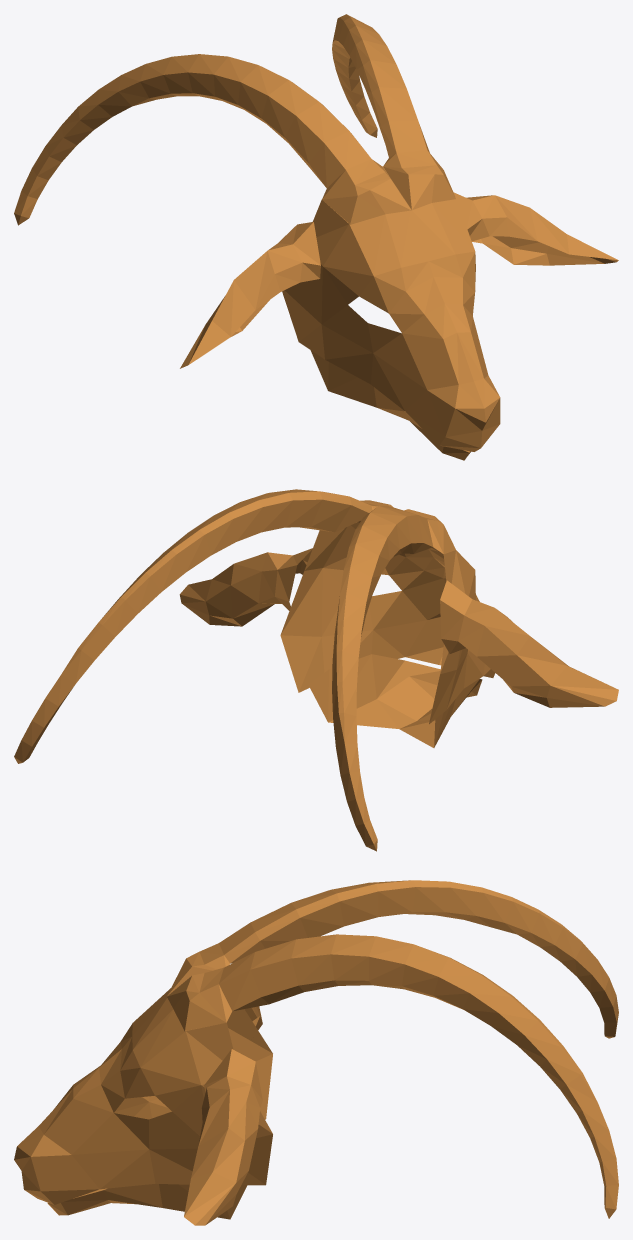
File: testMask.FBX
3 views of the same model, one above another, from view 1: azimuth 30°, elevation 25°; view 2: azimuth 150°, elevation 25°; view 3: azimuth 270°, elevation 25° (orthographic). The views are drawn at different scales.
Parts seen in each view (by area): view 1: GoatHead; view 2: GoatHead; view 3: GoatHead.
Part boxes in pixels (bbox=[...]): GoatHead: bbox=[14, 14, 618, 460]; GoatHead: bbox=[14, 489, 618, 851]; GoatHead: bbox=[14, 880, 618, 1225].
Bounding box in the file's own units: 1.2 × 0.7754 × 1.39.
